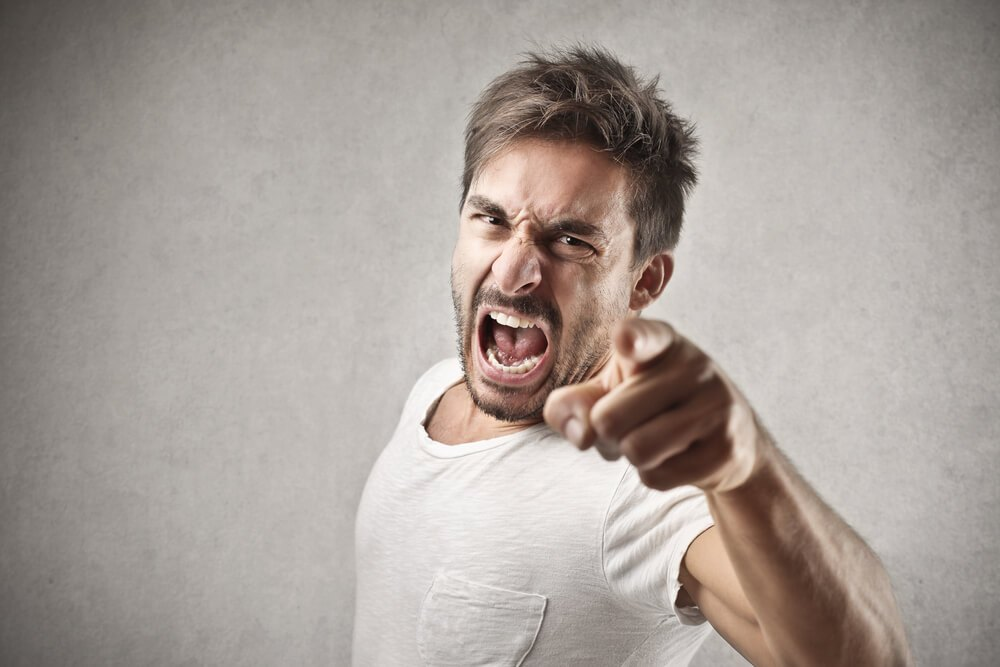angry: (444, 150, 631, 425)
